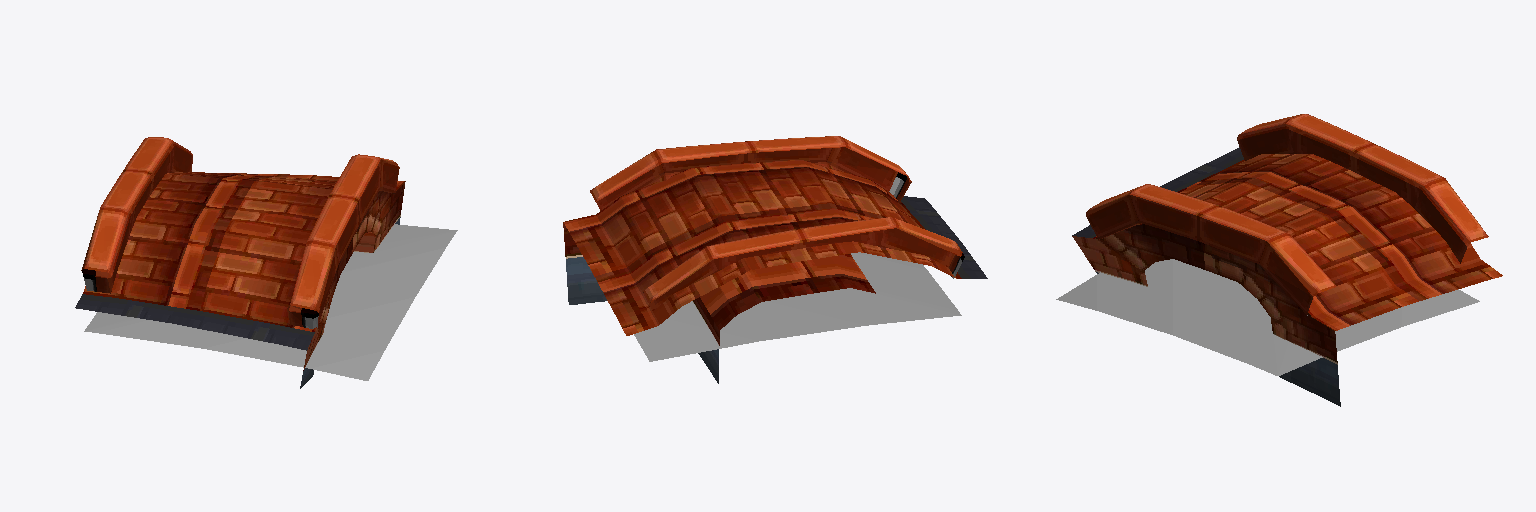
3 renders of one model, left to right at view 1: azimuth 30°, elevation 25°; view 2: azimuth 150°, elevation 25°; view 3: azimuth 270°, elevation 25°, orthographic.
Parts seen in each view (by area): view 1: vsn_mesh_0__mesh_0_.001, vsn_mesh_1__mesh_1_.001; view 2: vsn_mesh_0__mesh_0_.001, vsn_mesh_1__mesh_1_.001; view 3: vsn_mesh_0__mesh_0_.001, vsn_mesh_1__mesh_1_.001.
Part boxes in pixels (left/top/right/bottom): vsn_mesh_0__mesh_0_.001: left=75, top=137, right=405, bottom=388; vsn_mesh_1__mesh_1_.001: left=84, top=224, right=457, bottom=380; vsn_mesh_0__mesh_0_.001: left=563, top=136, right=987, bottom=383; vsn_mesh_1__mesh_1_.001: left=634, top=252, right=961, bottom=361; vsn_mesh_0__mesh_0_.001: left=1072, top=114, right=1502, bottom=406; vsn_mesh_1__mesh_1_.001: left=1056, top=259, right=1479, bottom=375.
Size of the model in its own units: 187 by 65.95 by 180.
2 materials, 1 textured.